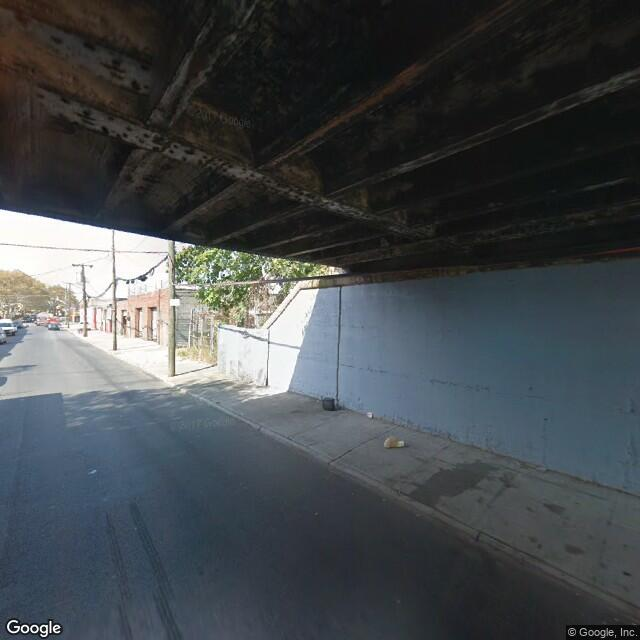litter: (382, 438, 407, 449), (322, 400, 336, 413), (537, 464, 549, 471), (366, 413, 375, 418)
